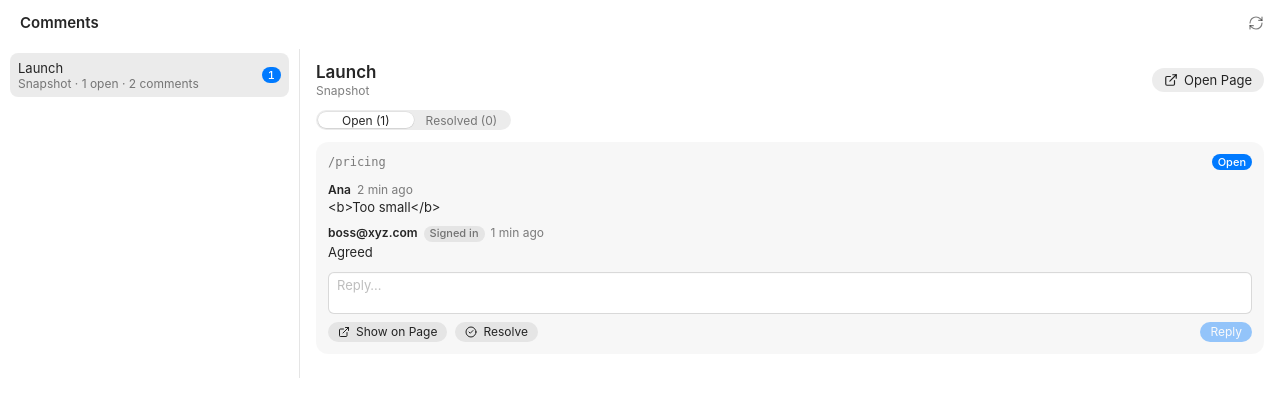
Test: CommentsPage › replies and resolves
The width and height of the screenshot is (1280, 395).
In the text box labelled "Reply": x=790, y=292 [328,272,1252,314], type "Fixed now"
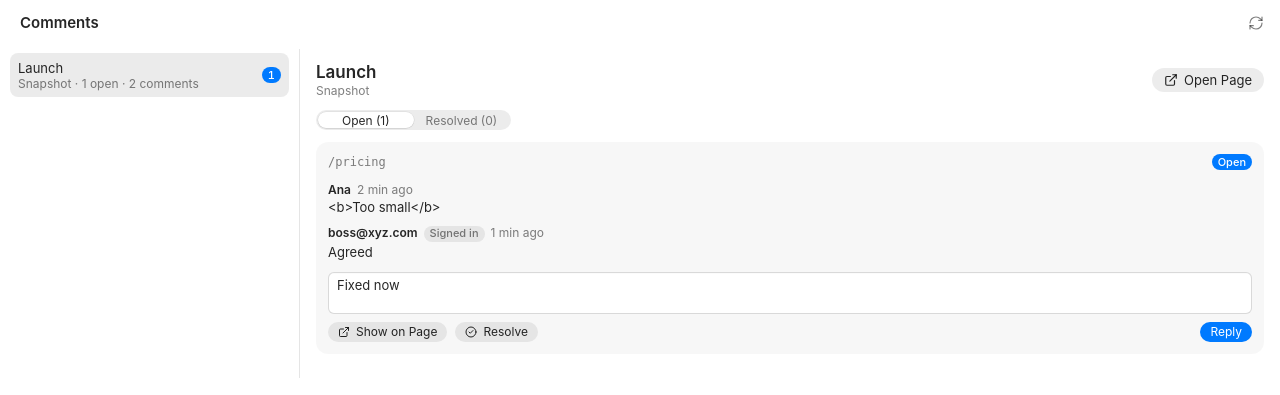
Click the button "Reply": x=1226, y=332 [1200,322,1252,342]
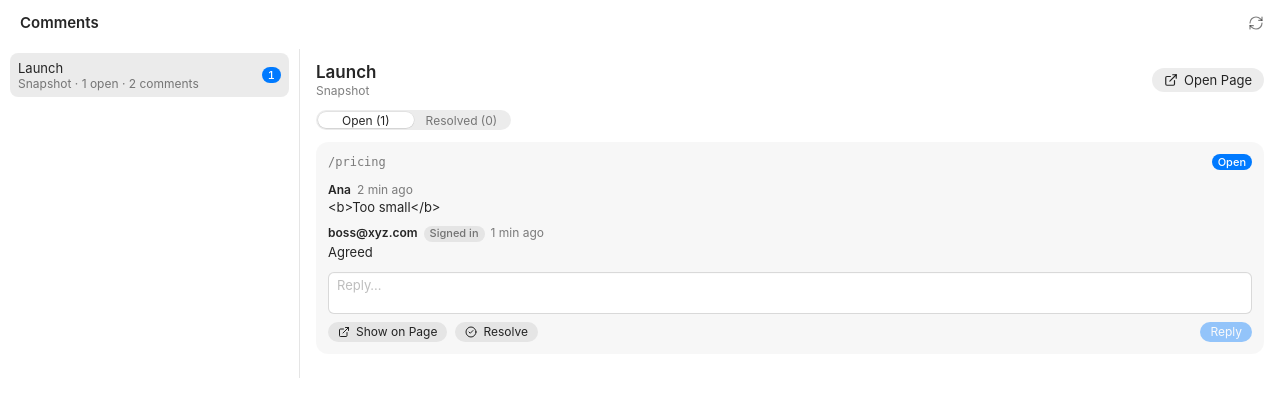
Click the button "Resolve": x=497, y=332 [455,322,538,342]
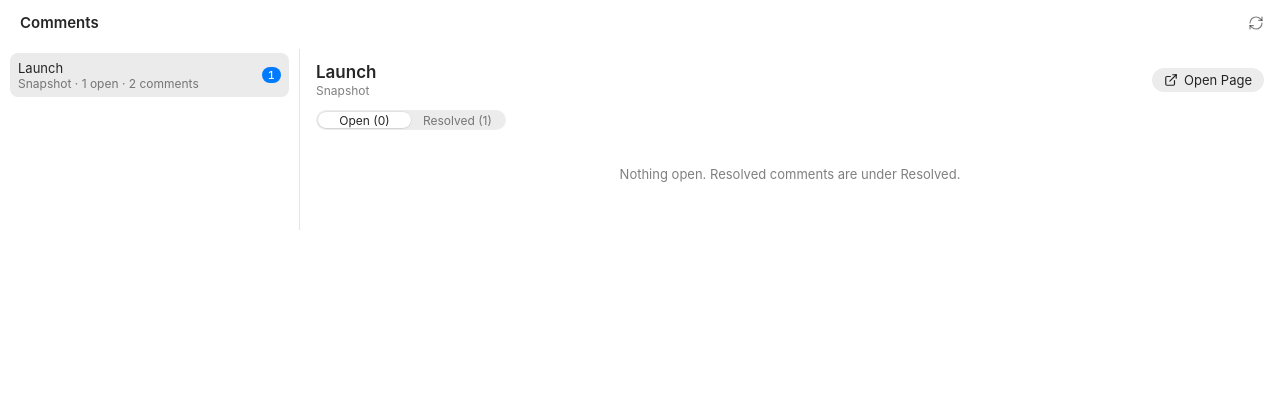
Check: the text "Nothing open. Resolved comments are under Resolved." is shown, box [620,166,960,182]
Click the radio button labelled "Resolved (1)": x=457, y=120 [411,112,504,128]
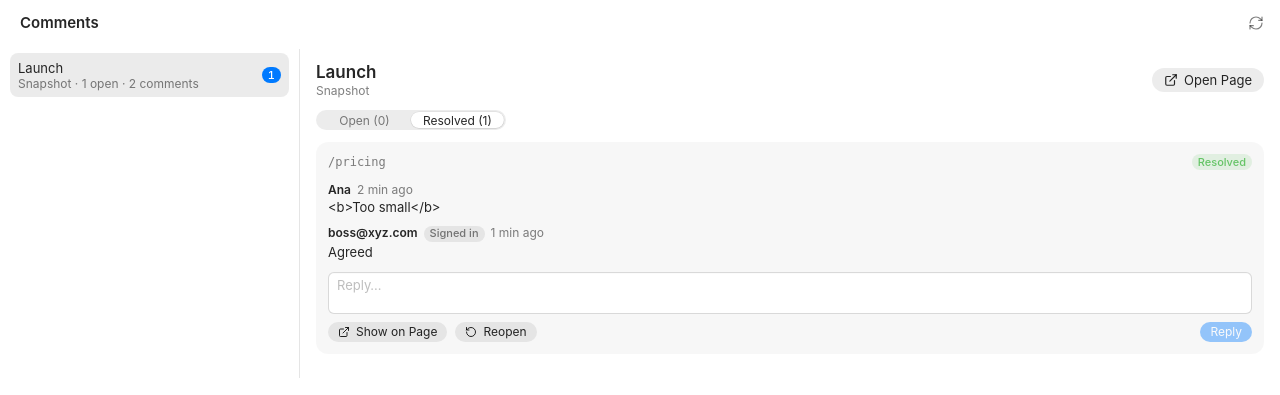
Check: the button "Reopen" is shown, box [455,322,537,342]
